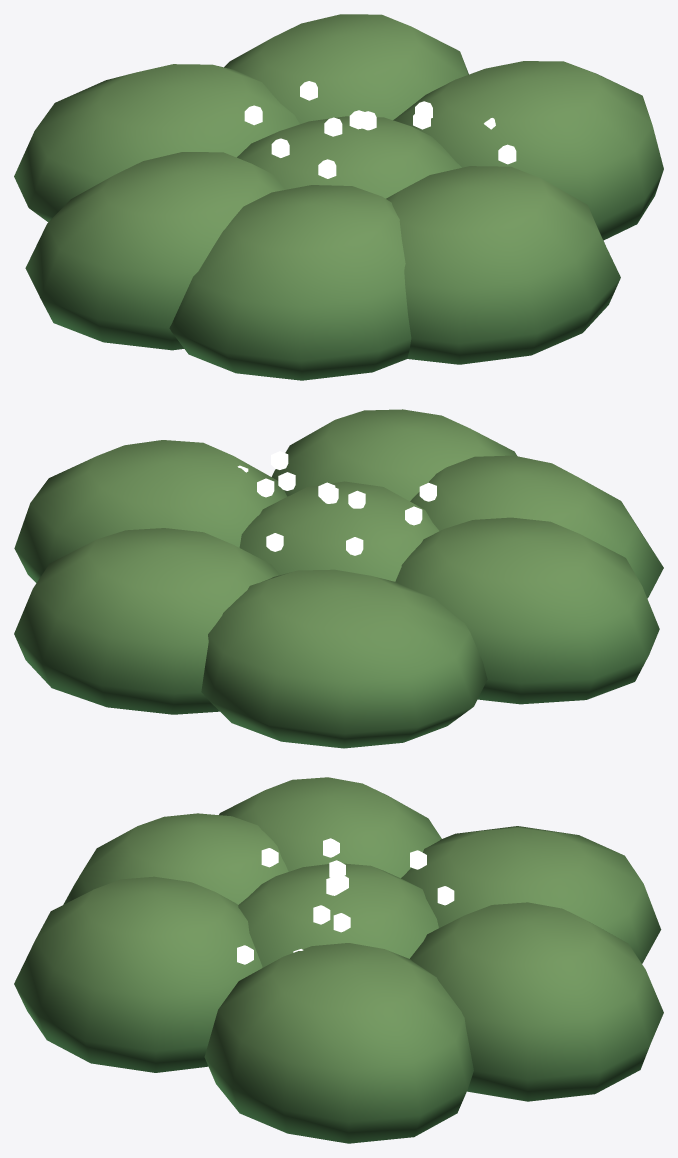
Rendered from ing_moss.glb.
3 views of the same model, one above another, from view 1: azimuth 30°, elevation 25°; view 2: azimuth 150°, elevation 25°; view 3: azimuth 270°, elevation 25° (orthographic). The views are drawn at different scales.
Visible parts, largest first — view 1: ing_moss; view 2: ing_moss; view 3: ing_moss.
Part boxes in pixels (box(x1,y1,x2,y2)): ing_moss: box(14, 14, 663, 380); ing_moss: box(14, 409, 663, 748); ing_moss: box(14, 777, 663, 1143).
Size of what is drawn, in the model's own units: 0.5787 by 0.1175 by 0.5288.
